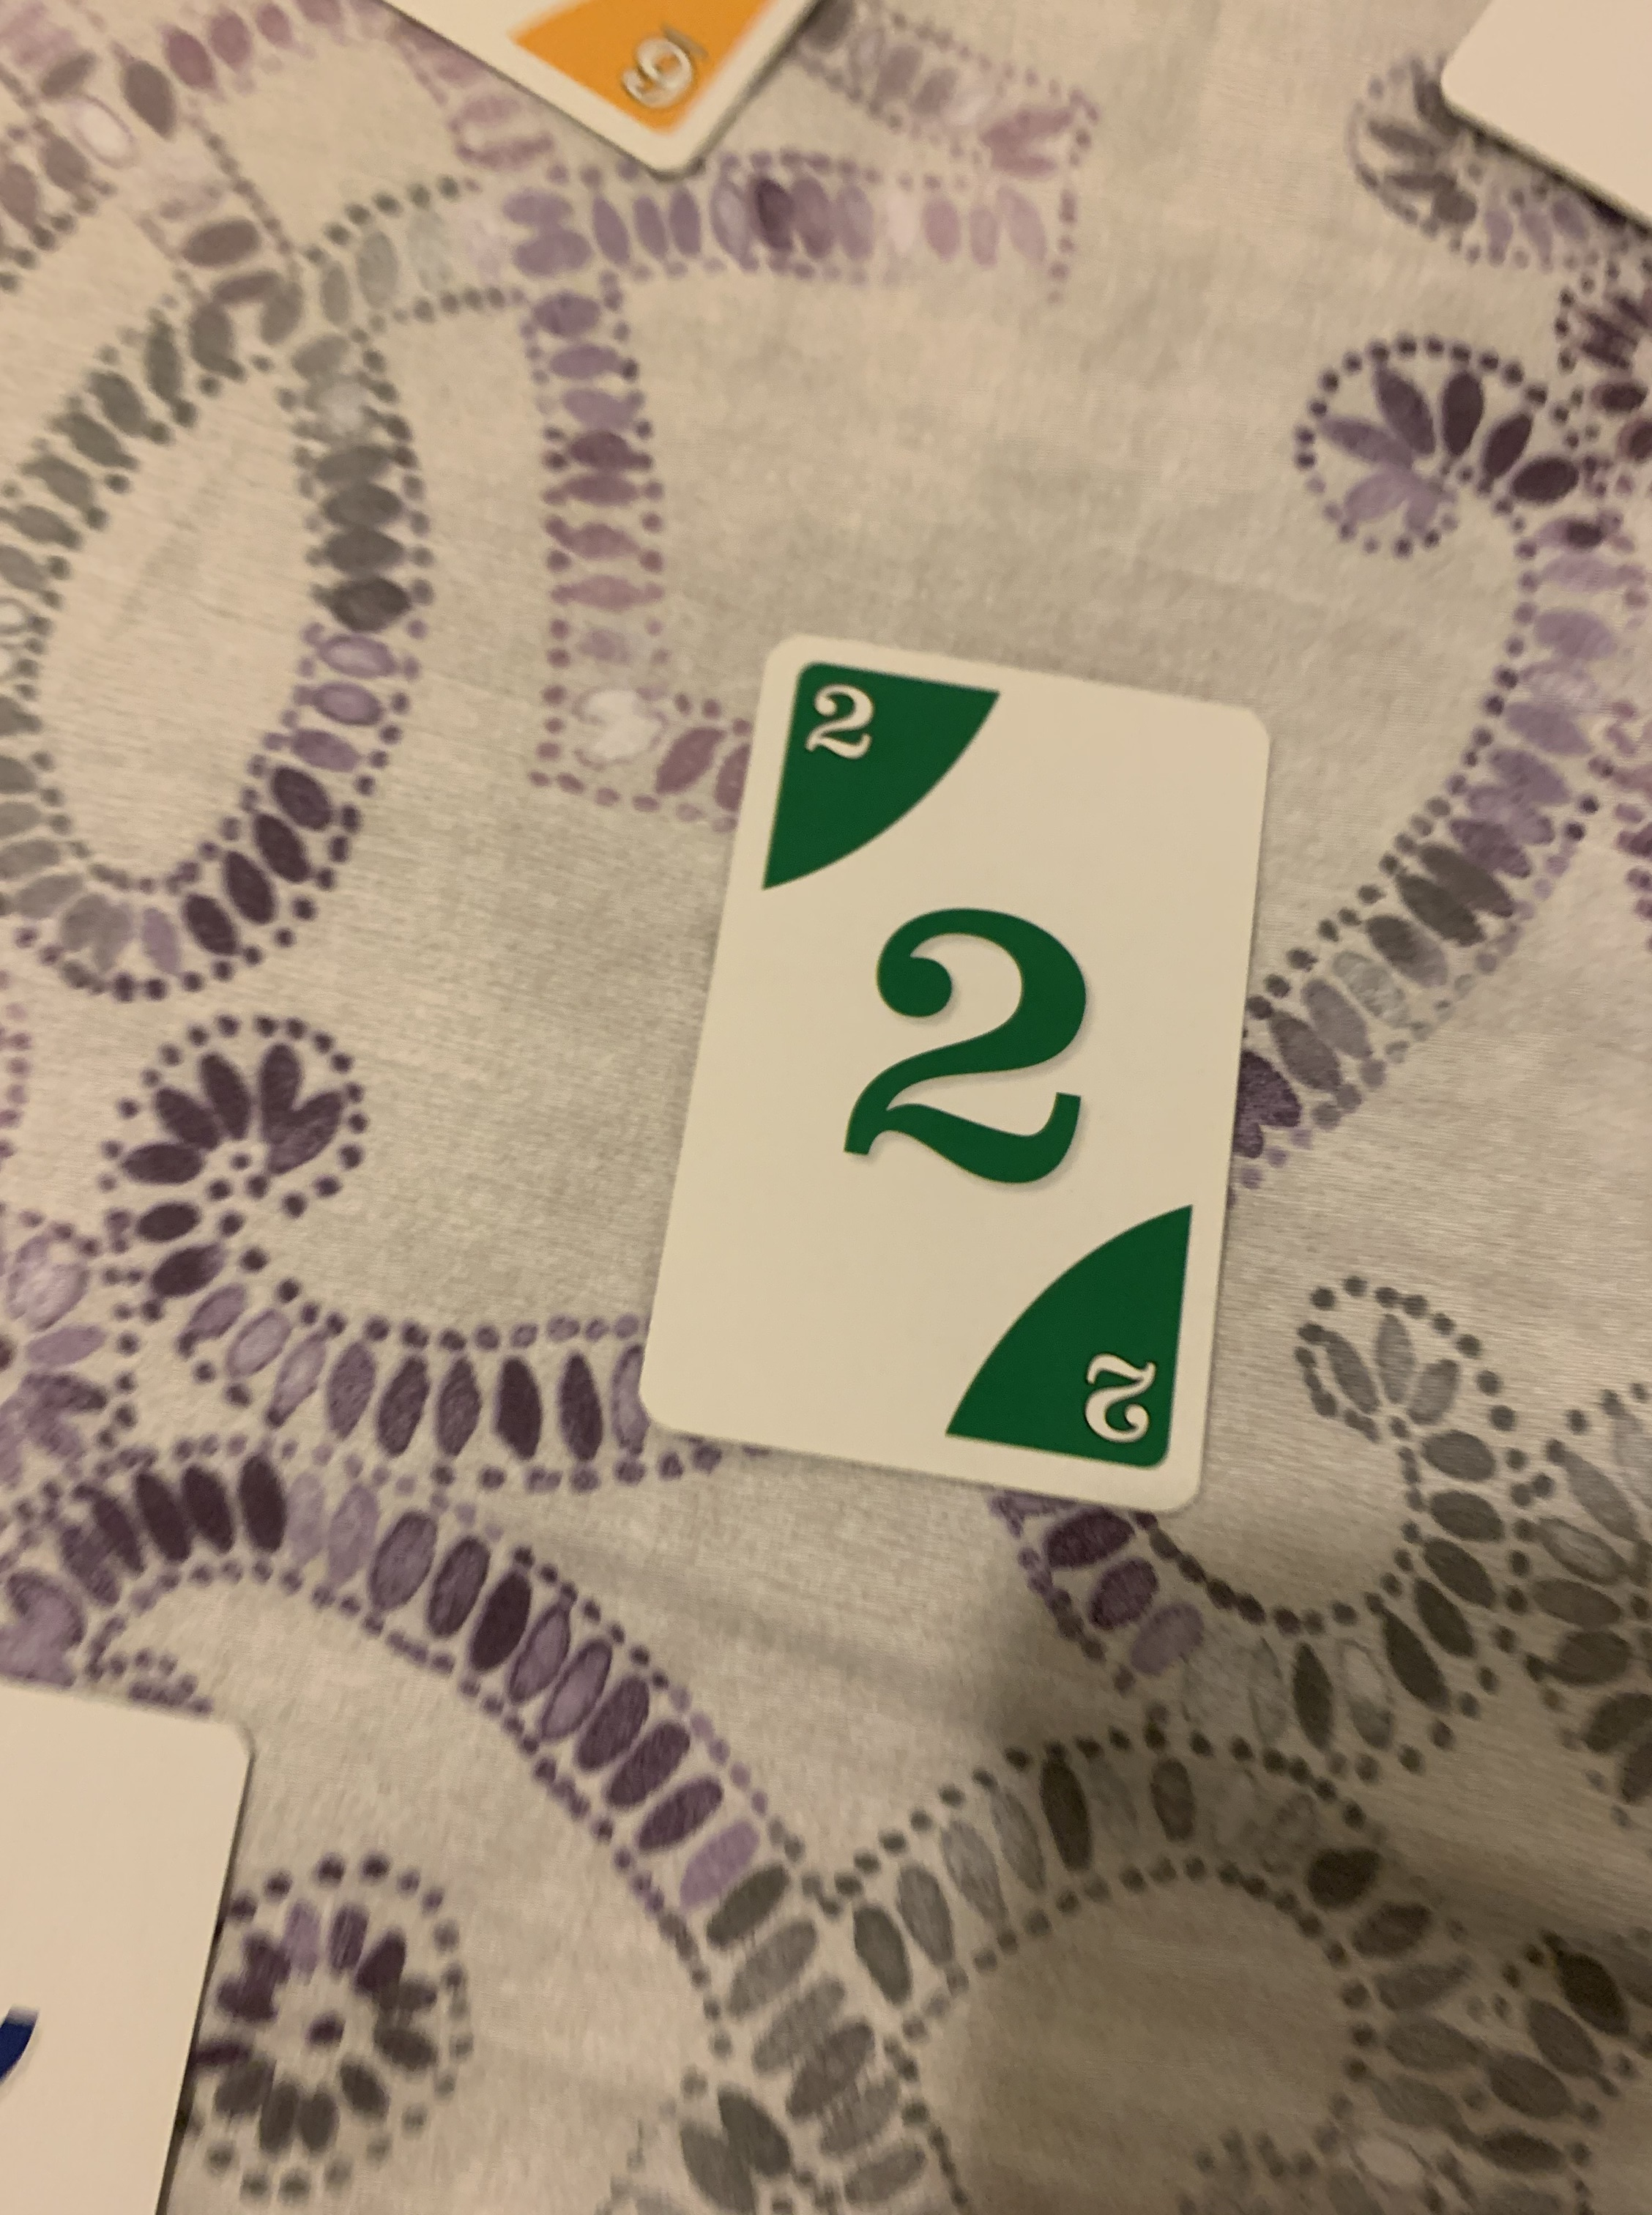two: (623, 630, 1277, 1514)
